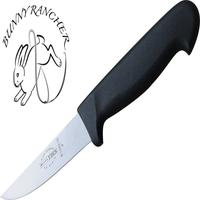knife: (1, 4, 198, 200)
